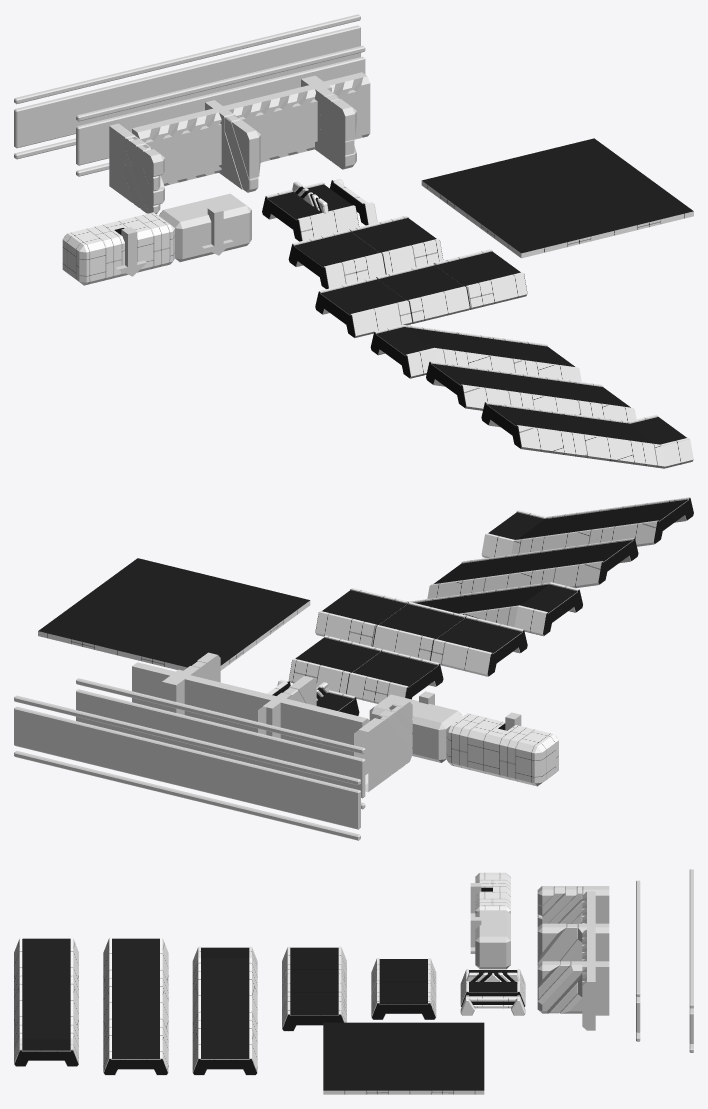
Rendered from Prefabs.fbx.
3 views of the same model, one above another, from view 1: azimuth 30°, elevation 25°; view 2: azimuth 150°, elevation 25°; view 3: azimuth 270°, elevation 25° (orthographic). The views are drawn at different scales.
Visible parts, largest first — view 1: Platform_18x18_LOD0, RunnableWall_36m_LOD0, RunnableWall_24m_LOD0, Platform_18x6_LOD0, PlatformSlideExit, RunnableWall_30m_LOD0, PlatformSlideEntry, Platform_12x6_LOD0, PlatformSlide, SlideBlock_LOD0, Cube.003, RunnableWallLedge_LOD0 (+6 smaller); view 2: RunnableWall_36m_LOD0, Platform_18x18_LOD0, Platform_18x6_LOD0, RunnableWall_30m_LOD0, PlatformSlideExit, RunnableWall_24m_LOD0, PlatformSlide, Platform_12x6_LOD0, SlideBlock_LOD0, PlatformSlideEntry, RunnableWallLedge_LOD0, Cube.003 (+3 smaller); view 3: Platform_18x18_LOD0, PlatformSlide, PlatformSlideEntry, PlatformSlideExit, Platform_18x6_LOD0, Platform_12x6_LOD0, RunnableWallLedge_LOD0.002, RunnableWallLedge_LOD0.001, RunnableWallLedge_LOD0, Cube.003, RunnableWall_24m_LOD0, Platform_6x6_LOD0 (+5 smaller).
Boxes of the visible parts, x1,y1,x2,y2 form: Platform_18x18_LOD0: (421, 138, 693, 258); RunnableWall_36m_LOD0: (14, 14, 360, 159); RunnableWall_24m_LOD0: (132, 72, 370, 185); Platform_18x6_LOD0: (315, 249, 527, 337); PlatformSlideExit: (481, 402, 693, 468); RunnableWall_30m_LOD0: (76, 45, 365, 176); PlatformSlideEntry: (370, 324, 581, 381); Platform_12x6_LOD0: (288, 215, 443, 288); PlatformSlide: (426, 361, 636, 421); SlideBlock_LOD0: (62, 212, 174, 285); Cube.003: (159, 193, 251, 261); RunnableWallLedge_LOD0: (109, 123, 164, 213); RunnableWall_36m_LOD0: (14, 695, 360, 840); Platform_18x18_LOD0: (38, 558, 310, 670); Platform_18x6_LOD0: (315, 588, 527, 676); RunnableWall_30m_LOD0: (76, 678, 365, 809); PlatformSlideExit: (481, 497, 693, 557); RunnableWall_24m_LOD0: (132, 662, 369, 756); PlatformSlide: (427, 538, 638, 598); Platform_12x6_LOD0: (289, 635, 443, 703); SlideBlock_LOD0: (446, 713, 558, 786); PlatformSlideEntry: (409, 582, 582, 636); RunnableWallLedge_LOD0: (354, 699, 412, 792); Cube.003: (369, 694, 462, 762); Platform_18x18_LOD0: (323, 1022, 484, 1094); PlatformSlide: (103, 938, 168, 1075); PlatformSlideEntry: (192, 946, 257, 1075); PlatformSlideExit: (14, 938, 78, 1066); Platform_18x6_LOD0: (282, 946, 346, 1031); Platform_12x6_LOD0: (371, 958, 436, 1019); RunnableWallLedge_LOD0.002: (537, 961, 609, 1015); RunnableWallLedge_LOD0.001: (537, 923, 609, 964); RunnableWallLedge_LOD0: (537, 886, 609, 927); Cube.003: (475, 910, 510, 969); RunnableWall_24m_LOD0: (582, 891, 595, 1030); Platform_6x6_LOD0: (460, 969, 525, 1007).
Size of the model in its own units: 5400 by 1294 by 7616.
